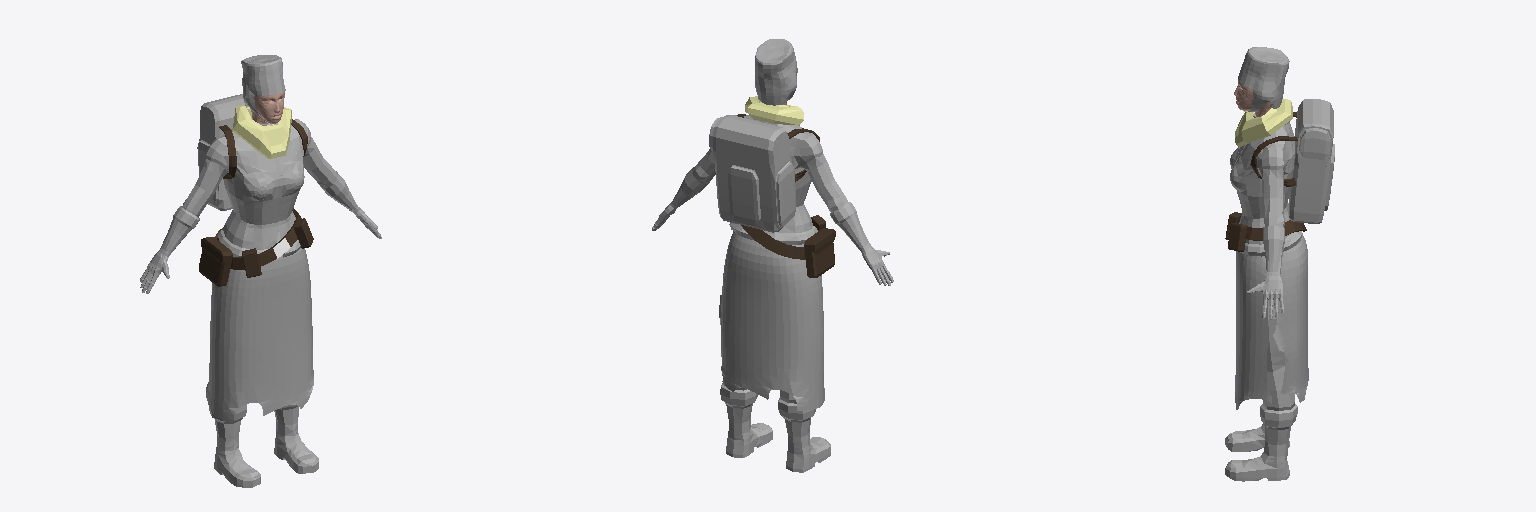
File: Fem_Character_I.obj
3 renders of one model, left to right at view 1: azimuth 30°, elevation 25°; view 2: azimuth 150°, elevation 25°; view 3: azimuth 270°, elevation 25°, orthographic.
Parts seen in each view (by area): view 1: 6.02.2007.0613; view 2: 6.02.2007.0613; view 3: 6.02.2007.0613.
Part boxes in pixels (left/top/right/bottom): 6.02.2007.0613: left=140, top=55, right=381, bottom=487; 6.02.2007.0613: left=652, top=39, right=893, bottom=472; 6.02.2007.0613: left=1225, top=47, right=1334, bottom=481.
Size of the model in its own units: 10.74 by 17.76 by 4.29.